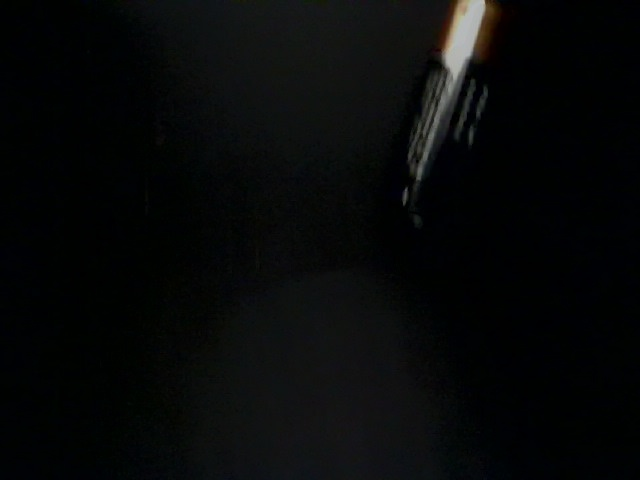QTLJ: (334, 430, 485, 480)
